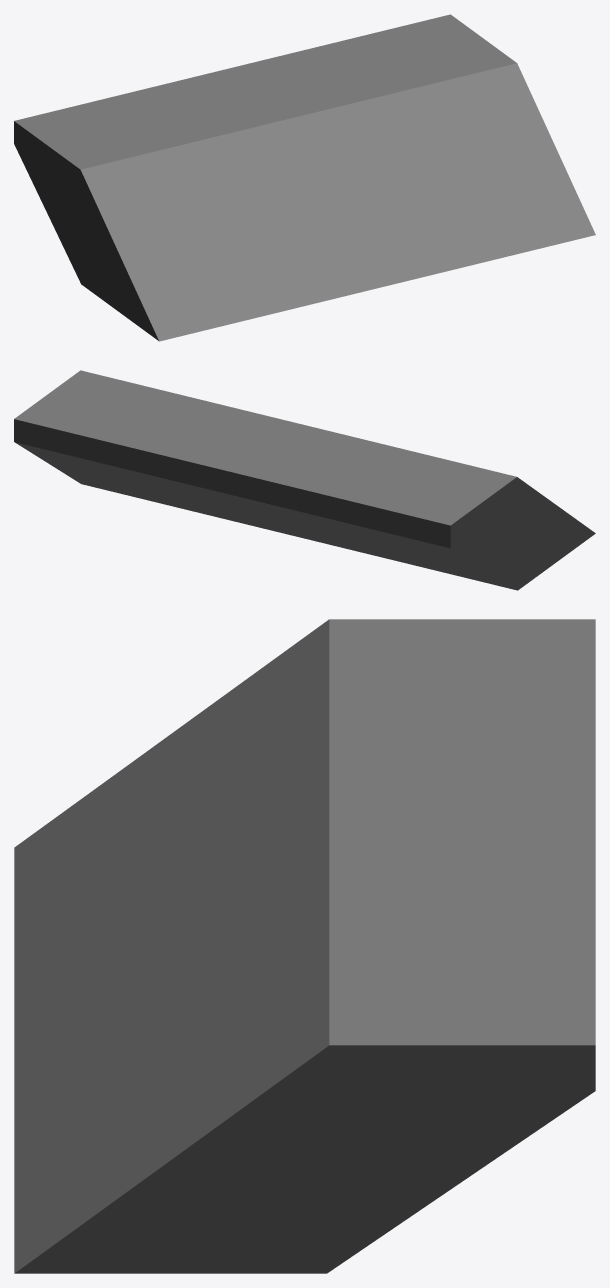
File: SW_ENV_StationStair_Steps_TopAndBottom_Collision.fbx
3 renders of one model, top to bottom at view 1: azimuth 30°, elevation 25°; view 2: azimuth 150°, elevation 25°; view 3: azimuth 270°, elevation 25°, orthographic. The views are drawn at different scales.
Visible parts, largest first — view 1: SW_ENV_StationStair_Steps_TopAndBottom_Collision; view 2: SW_ENV_StationStair_Steps_TopAndBottom_Collision; view 3: SW_ENV_StationStair_Steps_TopAndBottom_Collision.
Part boxes in pixels (x1,y1,x2,y2): SW_ENV_StationStair_Steps_TopAndBottom_Collision: (14,14,595,341); SW_ENV_StationStair_Steps_TopAndBottom_Collision: (14,370,595,590); SW_ENV_StationStair_Steps_TopAndBottom_Collision: (14,619,595,1273).
Bounding box in the file's own units: 100 × 25 × 57.67.
